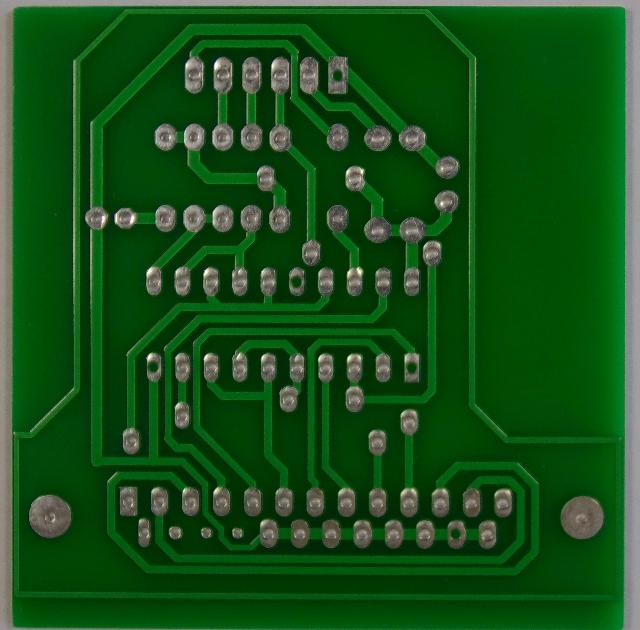missing_hole: (324, 62, 352, 88), (402, 354, 422, 382), (144, 354, 164, 380), (447, 522, 467, 548), (288, 269, 306, 295)
